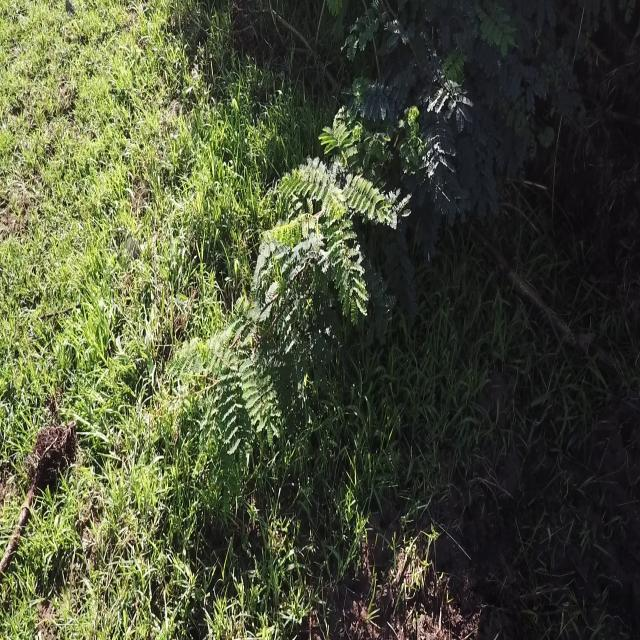Mysore-Thorn-Weed: (188, 0, 596, 517)
